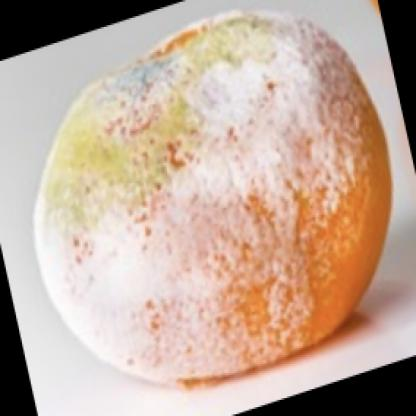rotten_orange: (41, 6, 394, 385)
